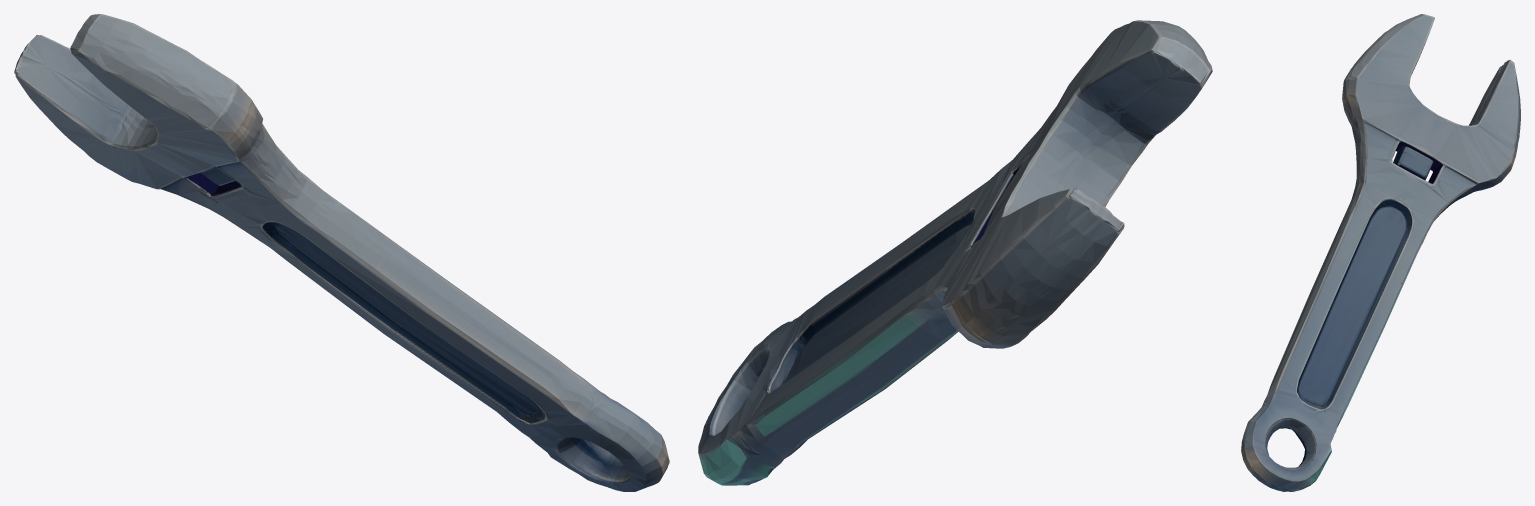
The model's file is repair-wrench.glb.
3 views of the same model, side by side, from view 1: azimuth 30°, elevation 25°; view 2: azimuth 150°, elevation 25°; view 3: azimuth 270°, elevation 25° (orthographic). The views are drawn at different scales.
Parts seen in each view (by area): view 1: tripo_node_965f1ad7-a7b4-4f36-81e7-0dd764994ae4; view 2: tripo_node_965f1ad7-a7b4-4f36-81e7-0dd764994ae4; view 3: tripo_node_965f1ad7-a7b4-4f36-81e7-0dd764994ae4.
Part boxes in pixels (x1=…): tripo_node_965f1ad7-a7b4-4f36-81e7-0dd764994ae4: x1=14, y1=14, x2=669, y2=491; tripo_node_965f1ad7-a7b4-4f36-81e7-0dd764994ae4: x1=698, y1=20, x2=1212, y2=485; tripo_node_965f1ad7-a7b4-4f36-81e7-0dd764994ae4: x1=1241, y1=14, x2=1520, y2=491.
Size of the model in its own units: 0.9902 by 0.998 by 0.752.
Materials: 1 (1 with a texture image).
